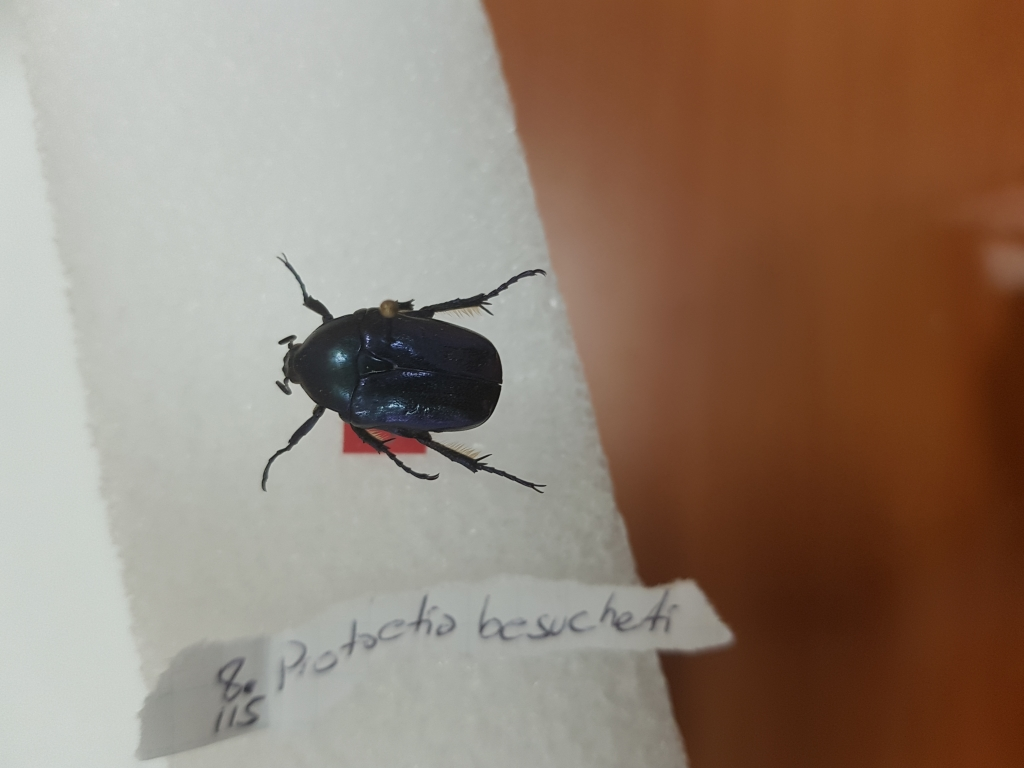Protaetia_besucheti: (234, 244, 563, 508)
